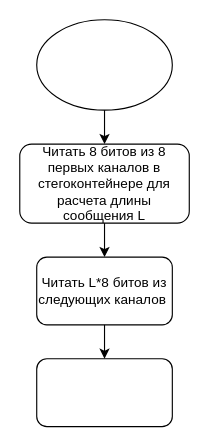
The diagram is 209 pixels wide and 446 high, and some of its shapes have lost their labels. The centre of each missing label's shape, as x and y in pixels:
"Начало программы" belongs at (x=104, y=64).
"Преобразовать двоичную строку N в символьную строку" belongs at (x=104, y=392).
